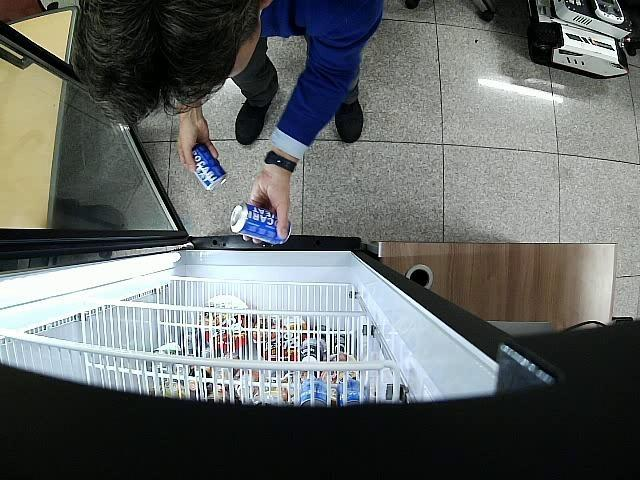13_pocariSweat: (231, 203, 291, 243), (192, 144, 226, 190)
